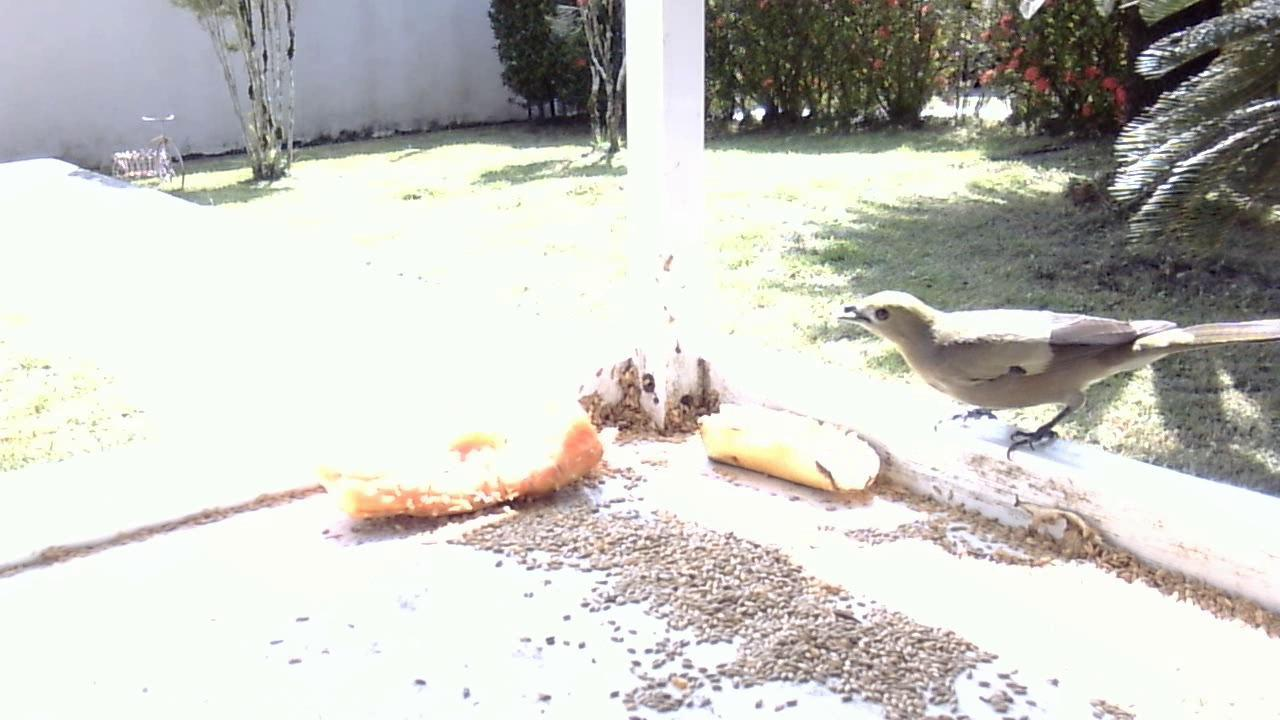sanhaco_do_coqueiro: (827, 277, 1270, 475)
